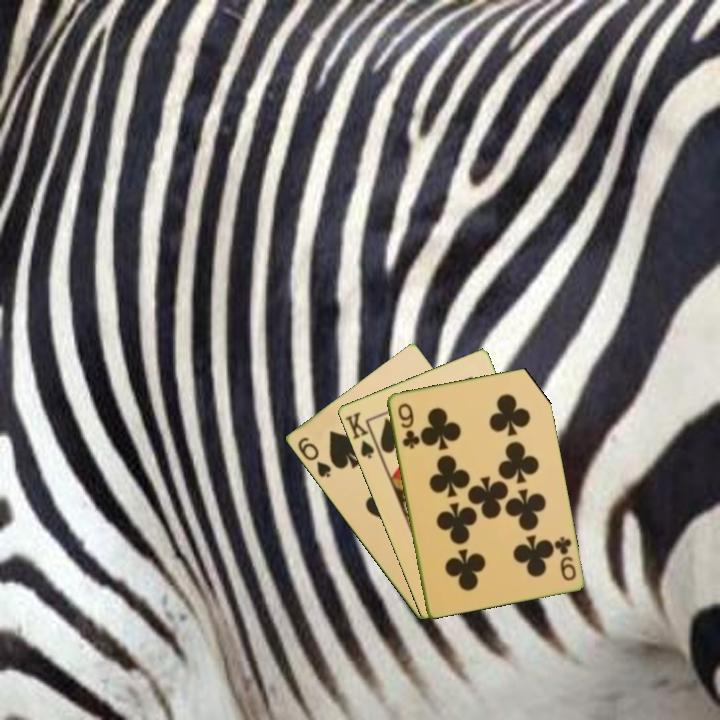6s: (294, 433, 334, 480)
9c: (550, 533, 579, 584), (394, 399, 420, 452)
Ks: (341, 408, 377, 462)
